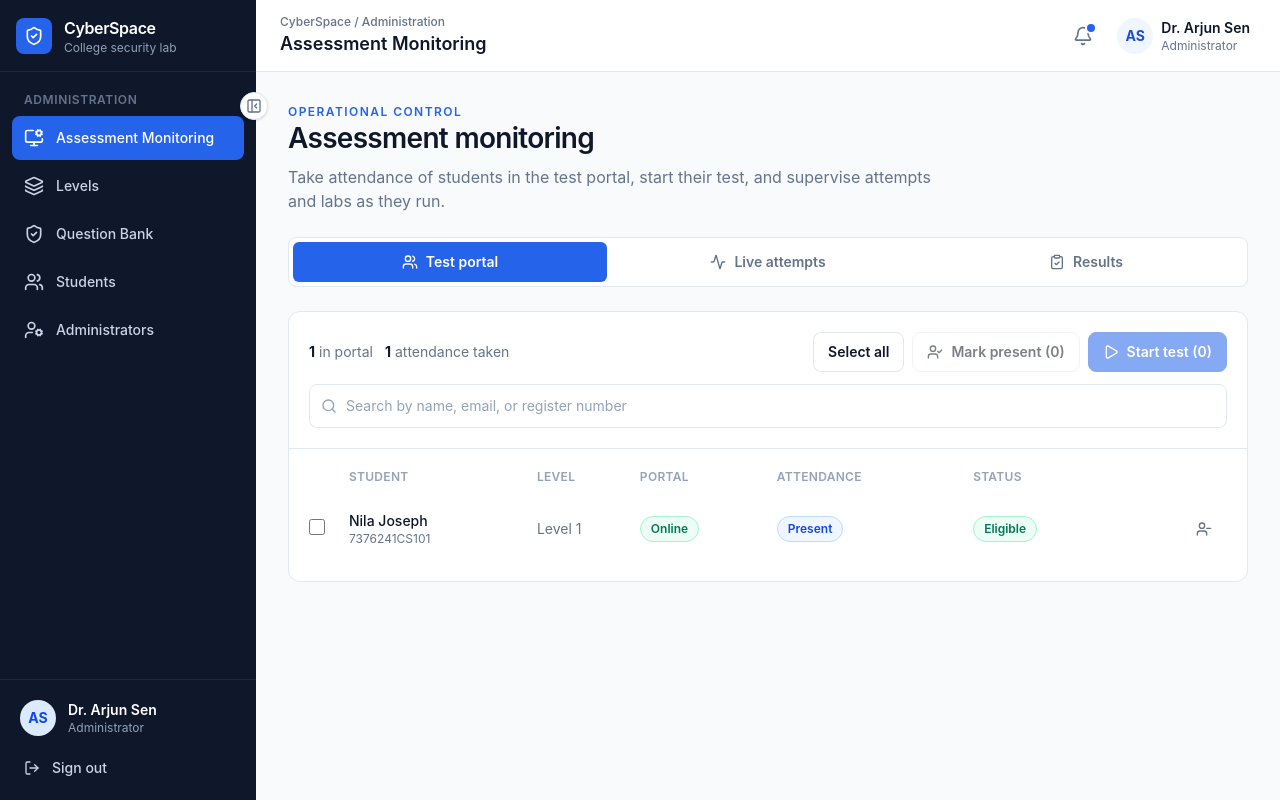
administrator monitoring › requires confirmation before starting the test
Click the checkbox named "Select Nila Joseph". click: (317, 527)
box: 309,519 -> 325,535
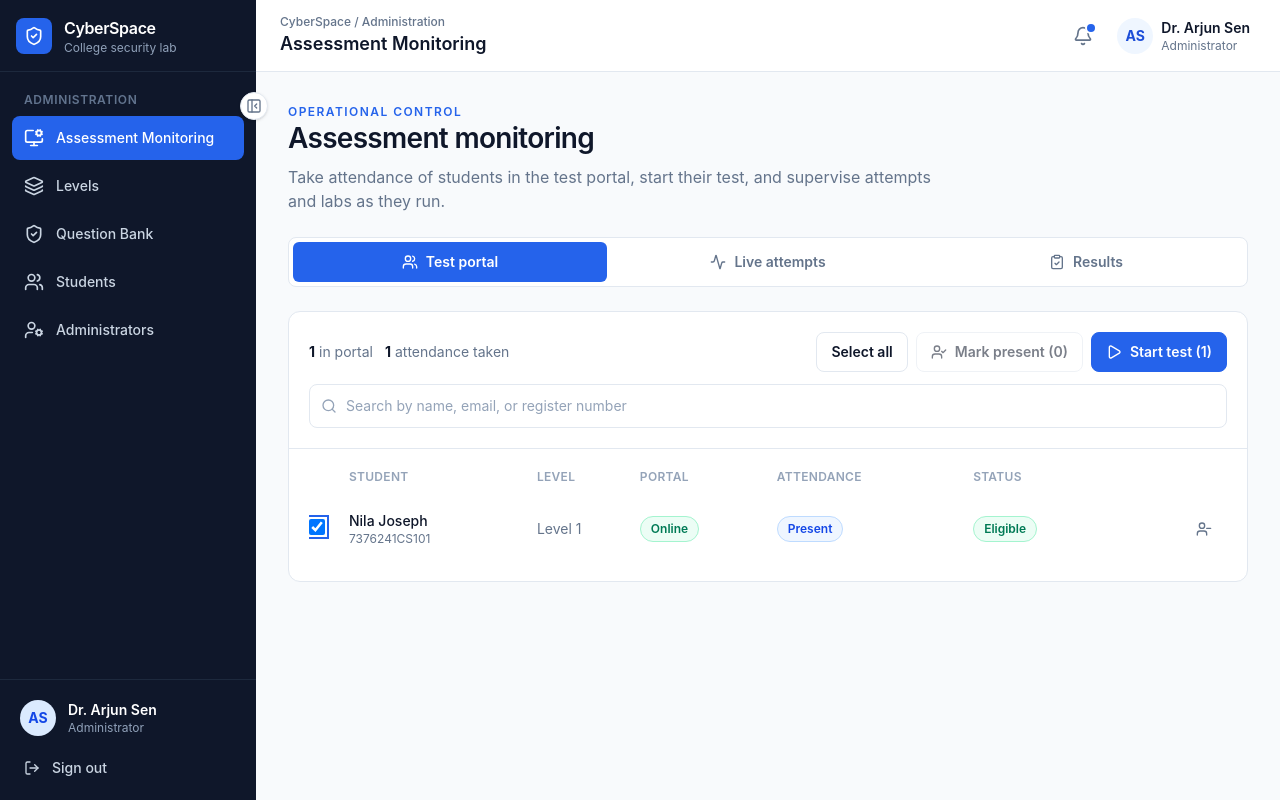
Expected: the button "Mark present (0)" is disabled, 916,332 -> 1083,372
Click the button "Start test (1)". click: (1159, 352)
box: 1091,332 -> 1227,372
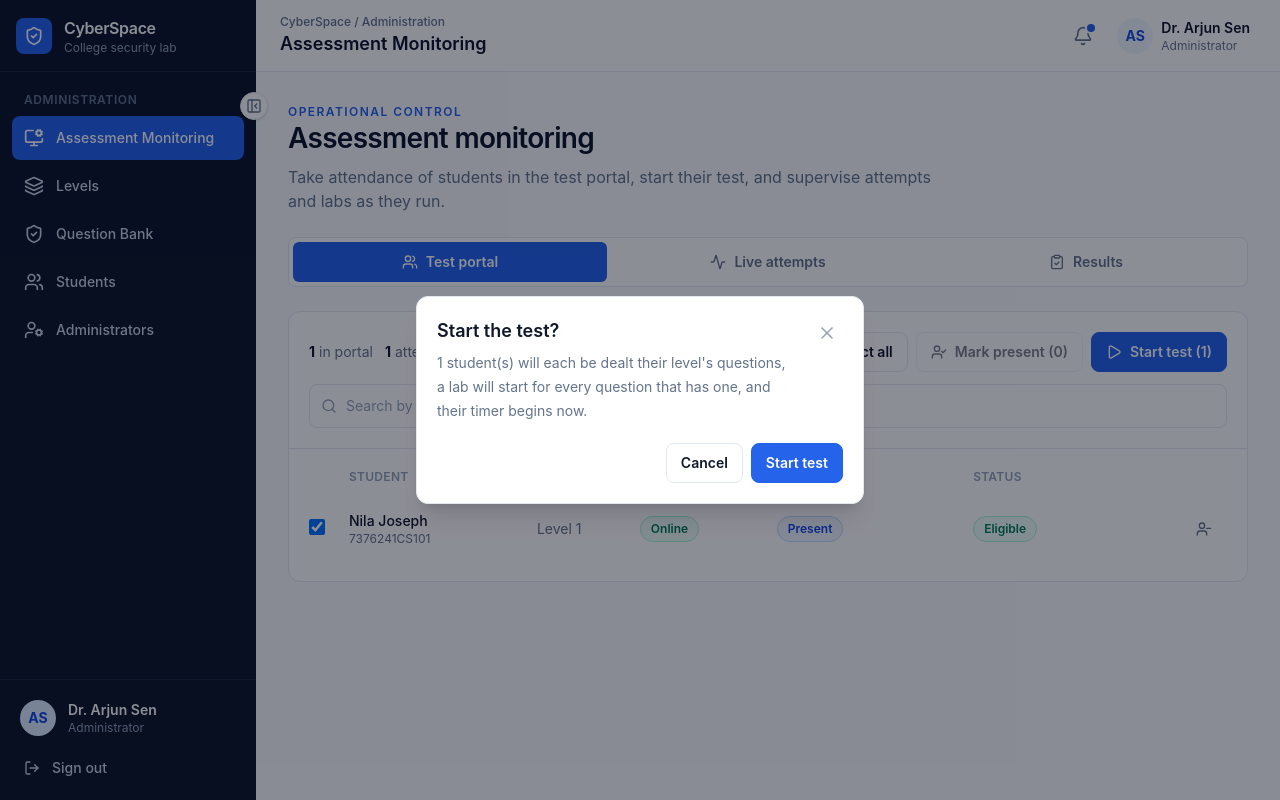
Click the button "Start test". click: (797, 463)
box: 751,443 -> 843,483
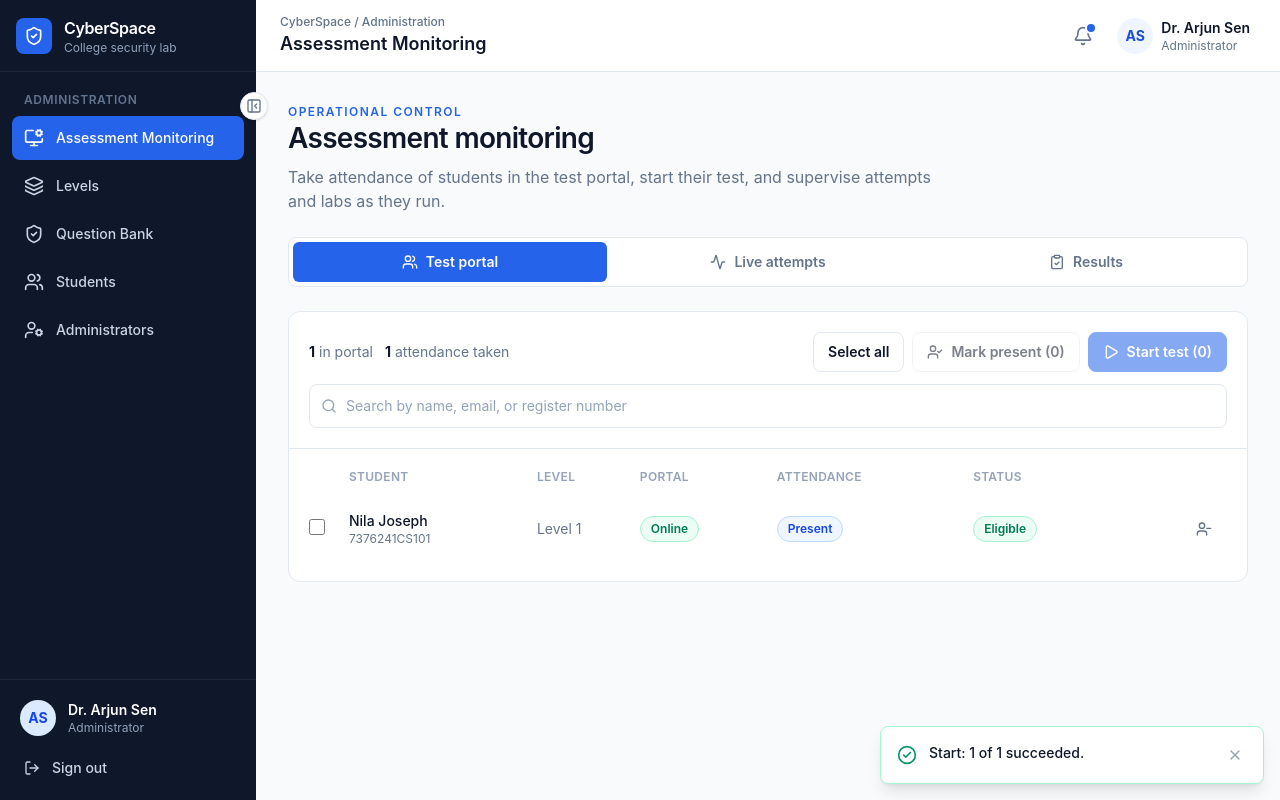
Expected: the text "Start: 1 of 1 succeeded." is shown, 929,744 -> 1084,761
